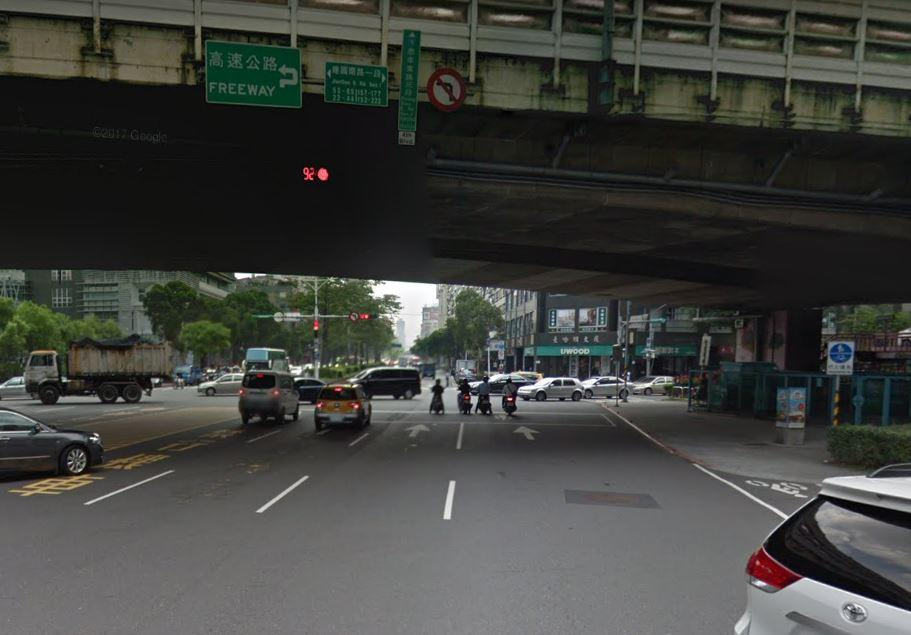car: (0, 402, 102, 485), (311, 376, 373, 434), (240, 368, 303, 424), (346, 363, 422, 401), (516, 372, 586, 403), (580, 373, 634, 404), (194, 370, 253, 395)
motorcycle: (475, 368, 497, 420), (497, 371, 520, 419), (454, 372, 474, 420), (426, 378, 447, 416)
no_left_turn: (425, 67, 466, 110)
truck: (22, 342, 183, 412)
